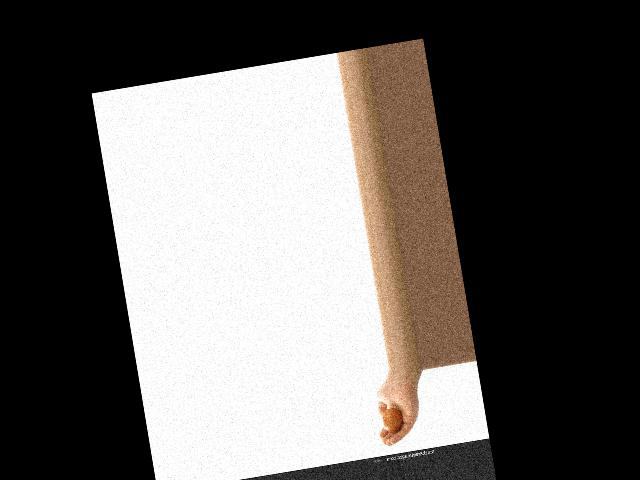egg: (380, 406, 404, 435)
